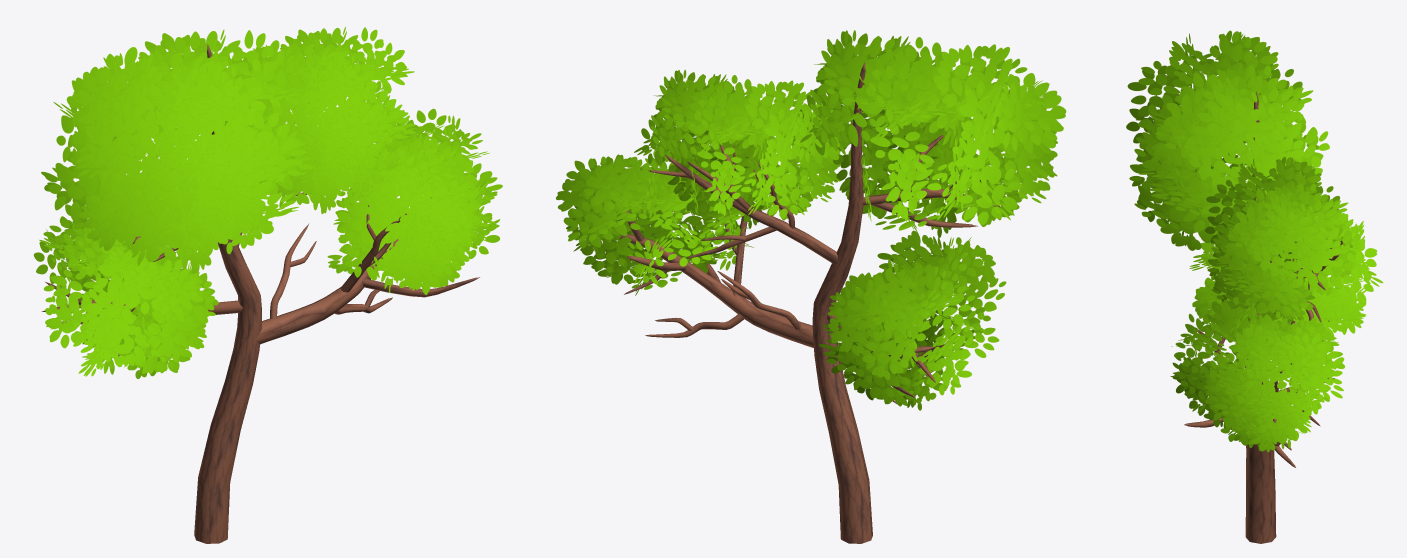
Rendered from Tree3.gltf.
3 views of the same model, side by side, from view 1: azimuth 30°, elevation 25°; view 2: azimuth 150°, elevation 25°; view 3: azimuth 270°, elevation 25° (orthographic). The views are drawn at different scales.
Visible parts, largest first — view 1: NormalTree_3; view 2: NormalTree_3; view 3: NormalTree_3.
Boxes of the visible parts, bbox=[...] form: NormalTree_3: bbox=[33, 27, 502, 543]; NormalTree_3: bbox=[556, 30, 1066, 543]; NormalTree_3: bbox=[1126, 30, 1383, 543].
Bounding box in the file's own units: 5.04 × 5.28 × 2.88.
Materials: 2 (2 with a texture image).
